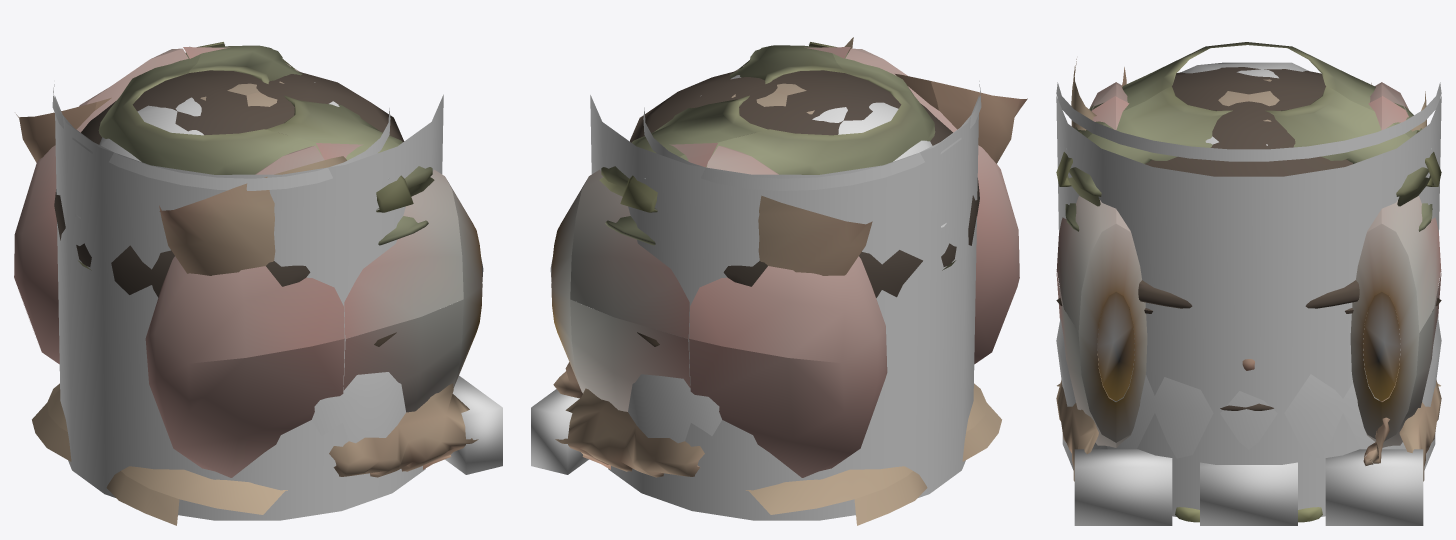
3 views of the same model, side by side, from view 1: azimuth 30°, elevation 25°; view 2: azimuth 150°, elevation 25°; view 3: azimuth 270°, elevation 25° (orthographic).
Parts seen in each view (by area): view 1: tex:eye, team, tex:peasantOlive, tex:hands, tex:hair1, tex:skin, oliveDark, olive; view 2: tex:eye, team, tex:hands, tex:peasantOlive, tex:hair1, tex:skin, oliveDark, olive; view 3: team, tex:eye, oliveDark, tex:peasantOlive, olive, tex:hair1, tex:hands, tex:skin.
Part boxes in pixels (box(x1,y1,x2,y2)): tex:eye: box(14, 47, 483, 477); team: box(54, 94, 443, 520); tex:peasantOlive: box(78, 42, 434, 270); tex:hands: box(16, 46, 478, 477); tex:hair1: box(54, 70, 404, 346); tex:skin: box(32, 81, 287, 525); oliveDark: box(52, 84, 502, 474); olive: box(75, 82, 405, 443); tex:eye: box(550, 47, 1019, 477); team: box(590, 95, 979, 520); tex:hands: box(553, 37, 1027, 477); tex:peasantOlive: box(599, 42, 955, 270); tex:hair1: box(630, 70, 979, 346); tex:skin: box(731, 83, 1001, 525); oliveDark: box(531, 81, 981, 474); olive: box(602, 75, 946, 443); team: box(1056, 96, 1441, 516); tex:eye: box(1056, 82, 1441, 447); oliveDark: box(1056, 82, 1441, 525); tex:peasantOlive: box(1056, 42, 1441, 522); olive: box(1056, 62, 1441, 458); tex:hair1: box(1056, 67, 1441, 410); tex:hands: box(1056, 59, 1441, 481); tex:skin: box(1057, 79, 1440, 386).
Bounding box in the file's own units: 65535 × 65535 × 65535.
